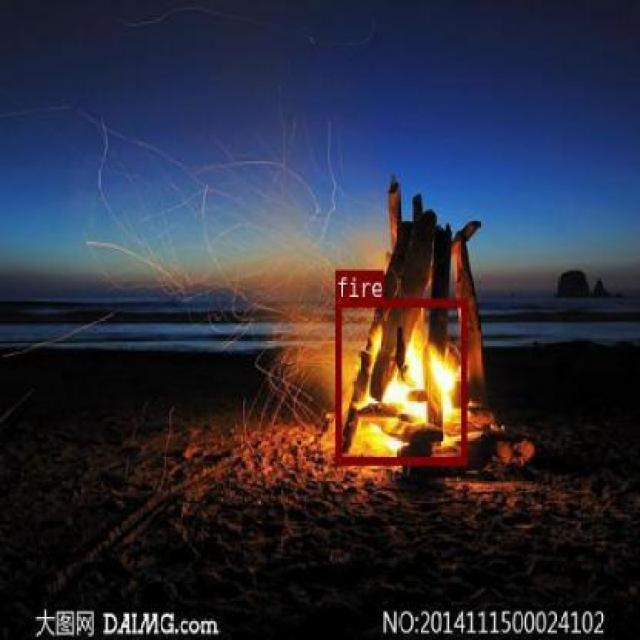Fire: (334, 297, 466, 463)
